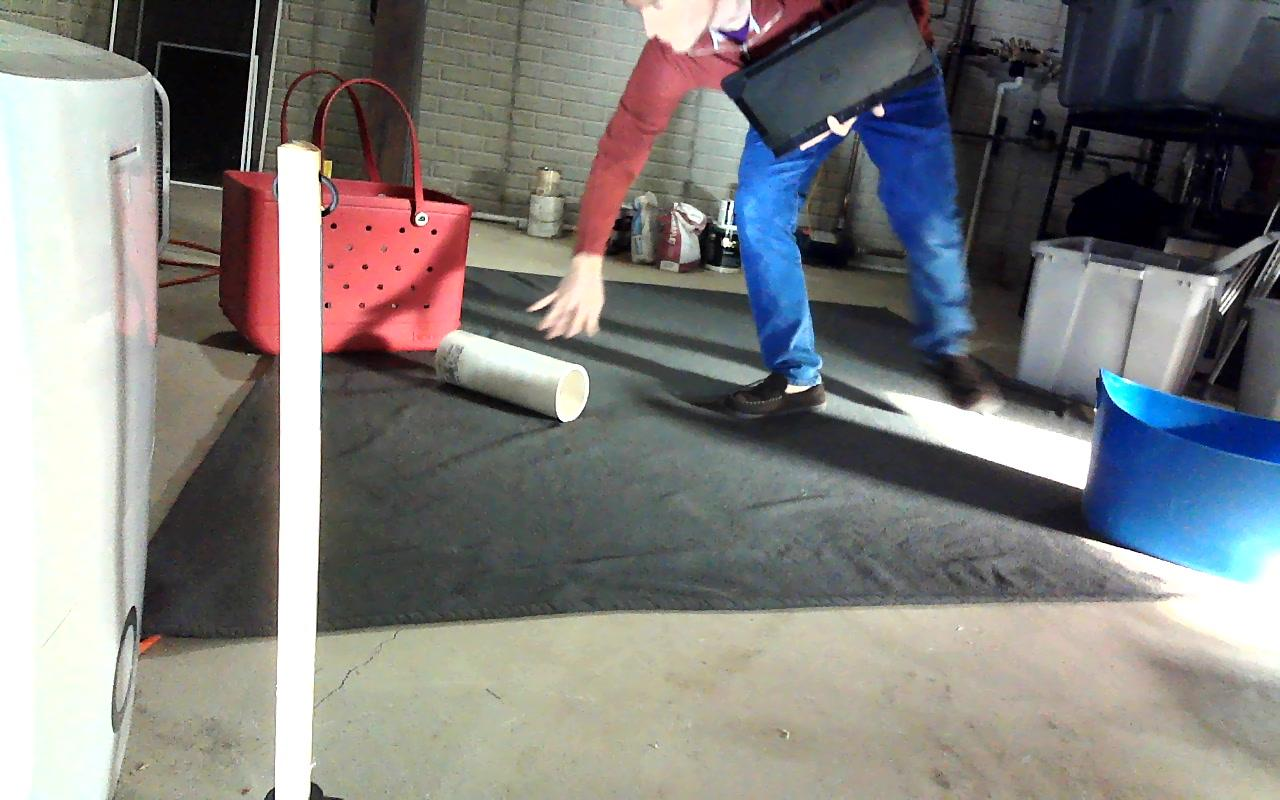coral: (432, 330, 589, 421)
